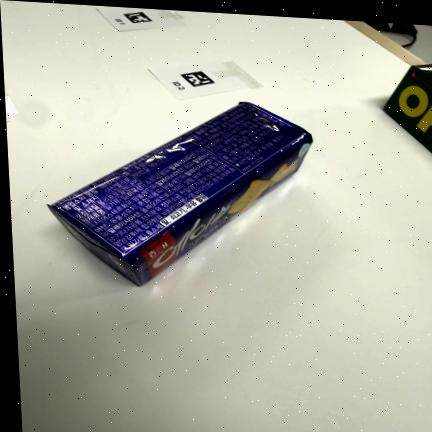cracker_ace: (49, 102, 313, 286)
